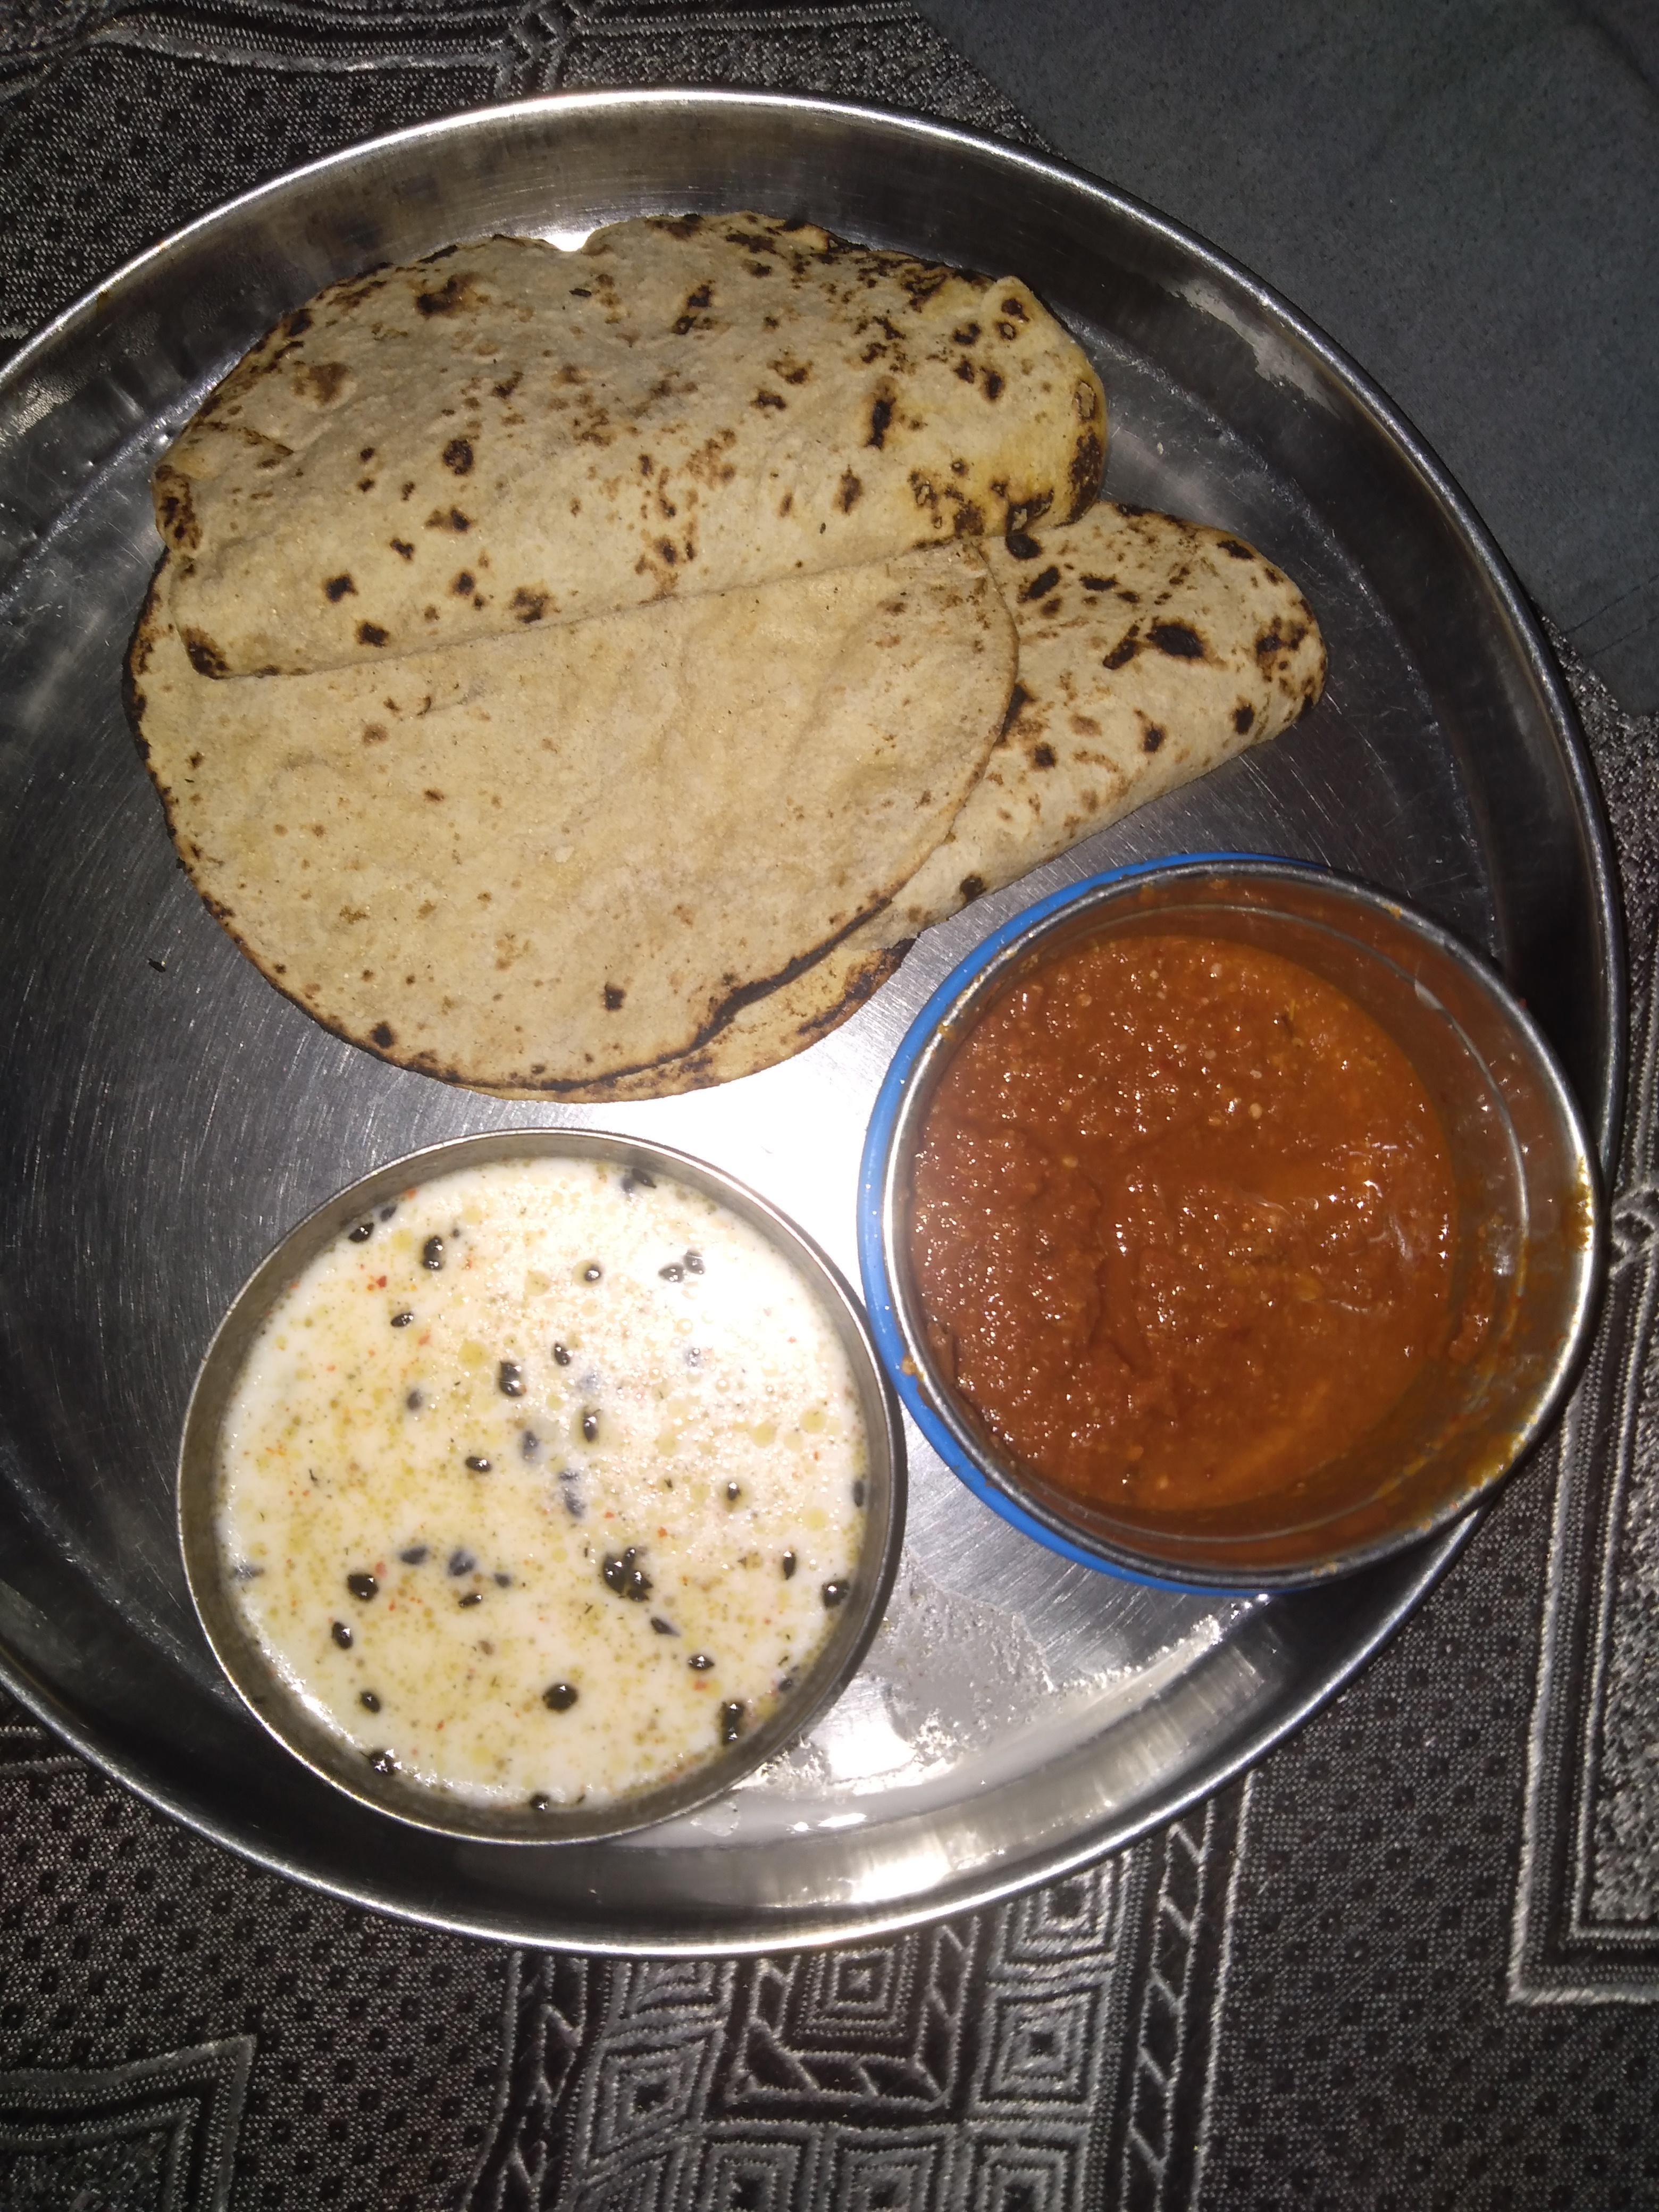food: (113, 195, 1615, 1860)
